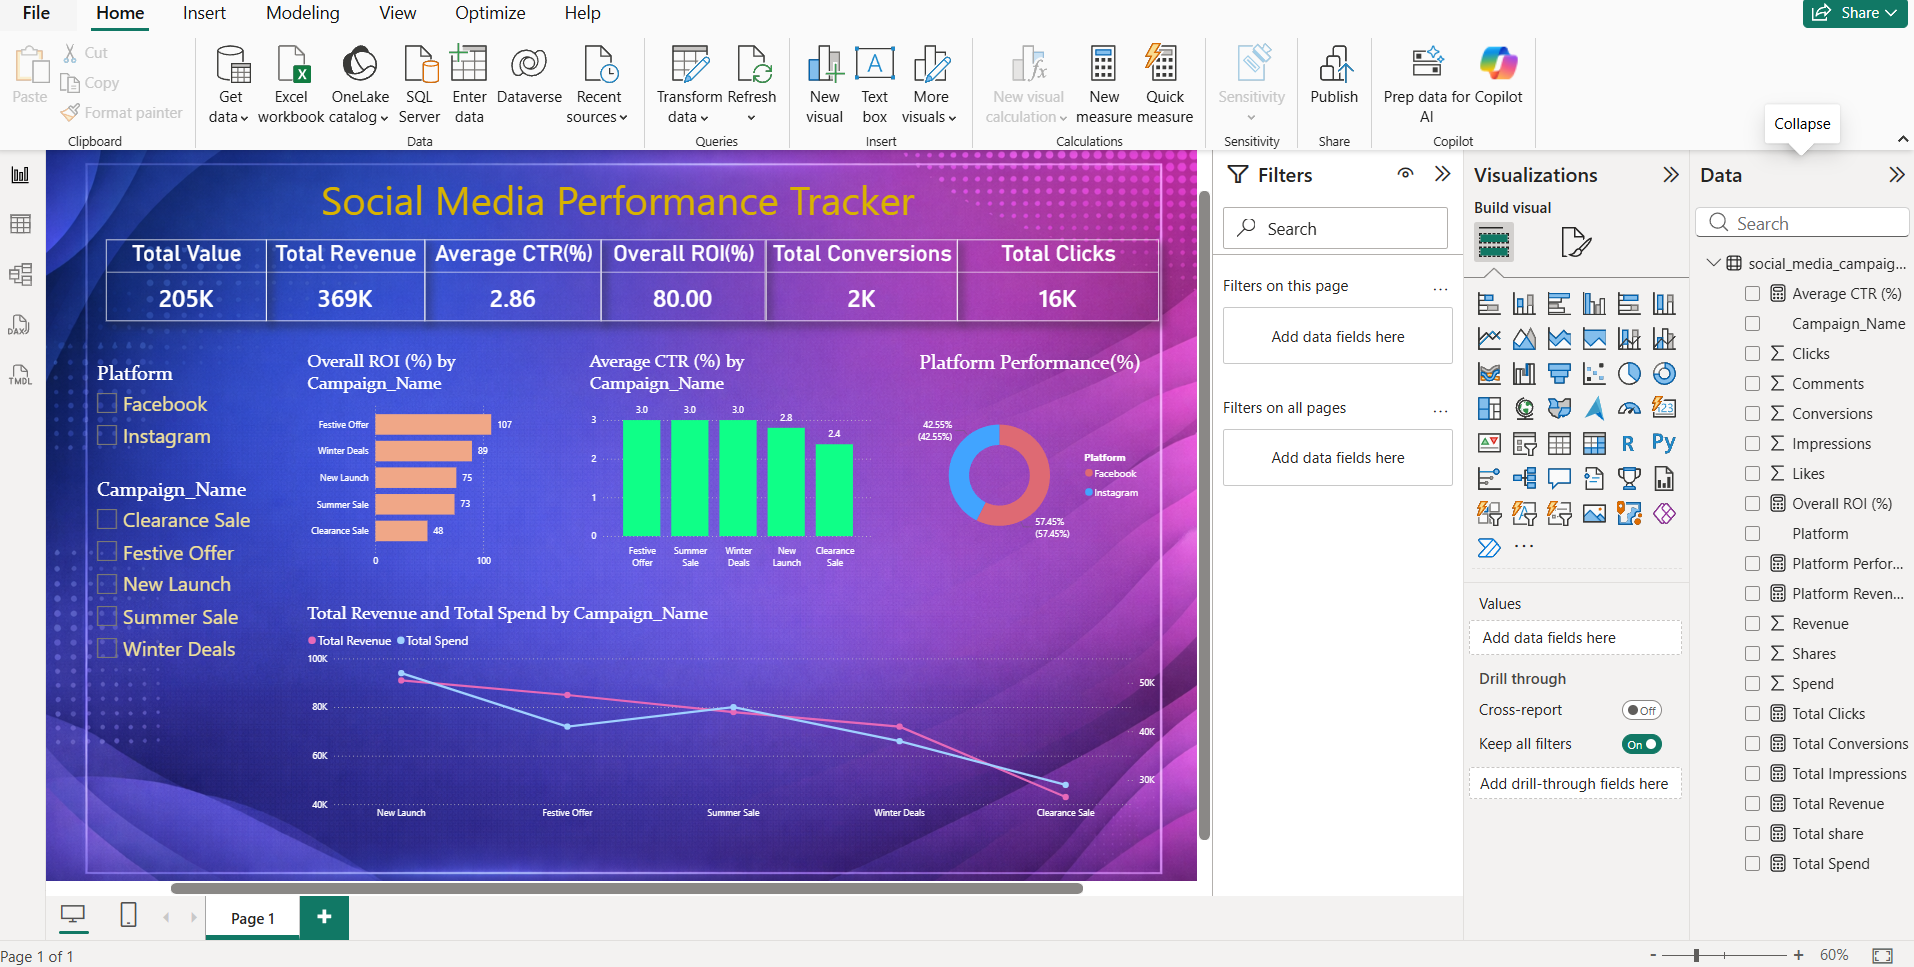

This screenshot's page, from the dashboard's own definition file:
{"tool":"powerbi","page":{"name":"Page 1","canvas":[1920,1080],"ordinal":0},"visuals":[{"type":"textbox","box":[248.5,67.7,1429.2,85.4],"z":0},{"type":"cardVisual","title":"Total Revenue","fields":{"Data":["social_media_campaign_data.Total revenue"]},"box":[486.8,162.9,211.7,108.6],"z":1000},{"type":"cardVisual","title":"Average CTR(%)","fields":{"Data":["social_media_campaign_data.Average CTR (%)"]},"box":[698.5,162.9,235.3,108.6],"z":2000},{"type":"cardVisual","title":"Overall ROI(%)","fields":{"Data":["social_media_campaign_data.Overall ROI (%)"]},"box":[933.8,162.9,219,108.6],"z":3000},{"type":"cardVisual","title":"Total Conversions","fields":{"Data":["social_media_campaign_data.Total Conversions"]},"box":[1152.8,162.9,255.2,108.6],"z":4000},{"type":"slicer","fields":{"Values":["social_media_campaign_data.Platform"]},"box":[248.6,320,230,154.3],"z":5000},{"type":"slicer","fields":{"Values":["social_media_campaign_data.Campaign_Name"]},"box":[248.6,474.3,261.4,275.7],"z":6000},{"type":"barChart","fields":{"Y":["social_media_campaign_data.Overall ROI (%)"],"Category":["social_media_campaign_data.Campaign_Name"]},"box":[537.1,310,367.1,300],"z":7000},{"type":"columnChart","fields":{"Y":["social_media_campaign_data.Average CTR (%)"],"Category":["social_media_campaign_data.Campaign_Name"]},"box":[912.9,310,388.6,300],"z":8000},{"type":"donutChart","title":"Platform Performance(%)","fields":{"Category":["social_media_campaign_data.Platform"],"Y":["social_media_campaign_data.Platform Performance %"]},"box":[1347.1,310,317.1,302.9],"z":9000},{"type":"lineChart","fields":{"Category":["social_media_campaign_data.Campaign_Name"],"Y2":["social_media_campaign_data.Total Spend"],"Y":["social_media_campaign_data.Total revenue"]},"box":[537.1,647.1,1140,300],"z":10000},{"type":"cardVisual","title":"Total Value","fields":{"Data":["social_media_campaign_data.Total Spend"]},"box":[272.9,162.9,214.3,108.6],"z":11000},{"type":"cardVisual","title":"Total Clicks","fields":{"Data":["social_media_campaign_data.Total Clicks"]},"box":[1408.6,162.9,268.6,108.6],"z":11001}]}

Visuals, with their boxes on the page's 1920x1080 design canvas (x1, y1, x2, y2). These are canvas units, not pixel positions in the 1914x967 screenshot, which may show the page scaled, cropped or inside an application window:
textbox: rect(248, 68, 1678, 153)
"Total Revenue" cardVisual: rect(487, 163, 698, 272)
"Average CTR(%)" cardVisual: rect(698, 163, 934, 272)
"Overall ROI(%)" cardVisual: rect(934, 163, 1153, 272)
"Total Conversions" cardVisual: rect(1153, 163, 1408, 272)
slicer - social_media_campaign_data.Platform: rect(249, 320, 479, 474)
slicer - social_media_campaign_data.Campaign_Name: rect(249, 474, 510, 750)
barChart - social_media_campaign_data.Overall ROI (%) x social_media_campaign_data.Campaign_Name: rect(537, 310, 904, 610)
columnChart - social_media_campaign_data.Average CTR (%) x social_media_campaign_data.Campaign_Name: rect(913, 310, 1302, 610)
"Platform Performance(%)" donutChart: rect(1347, 310, 1664, 613)
lineChart - social_media_campaign_data.Campaign_Name x social_media_campaign_data.Total Spend: rect(537, 647, 1677, 947)
"Total Value" cardVisual: rect(273, 163, 487, 272)
"Total Clicks" cardVisual: rect(1409, 163, 1677, 272)
